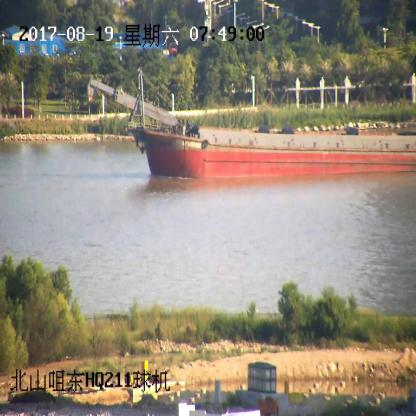Bulk Carrier: (88, 67, 415, 181)
